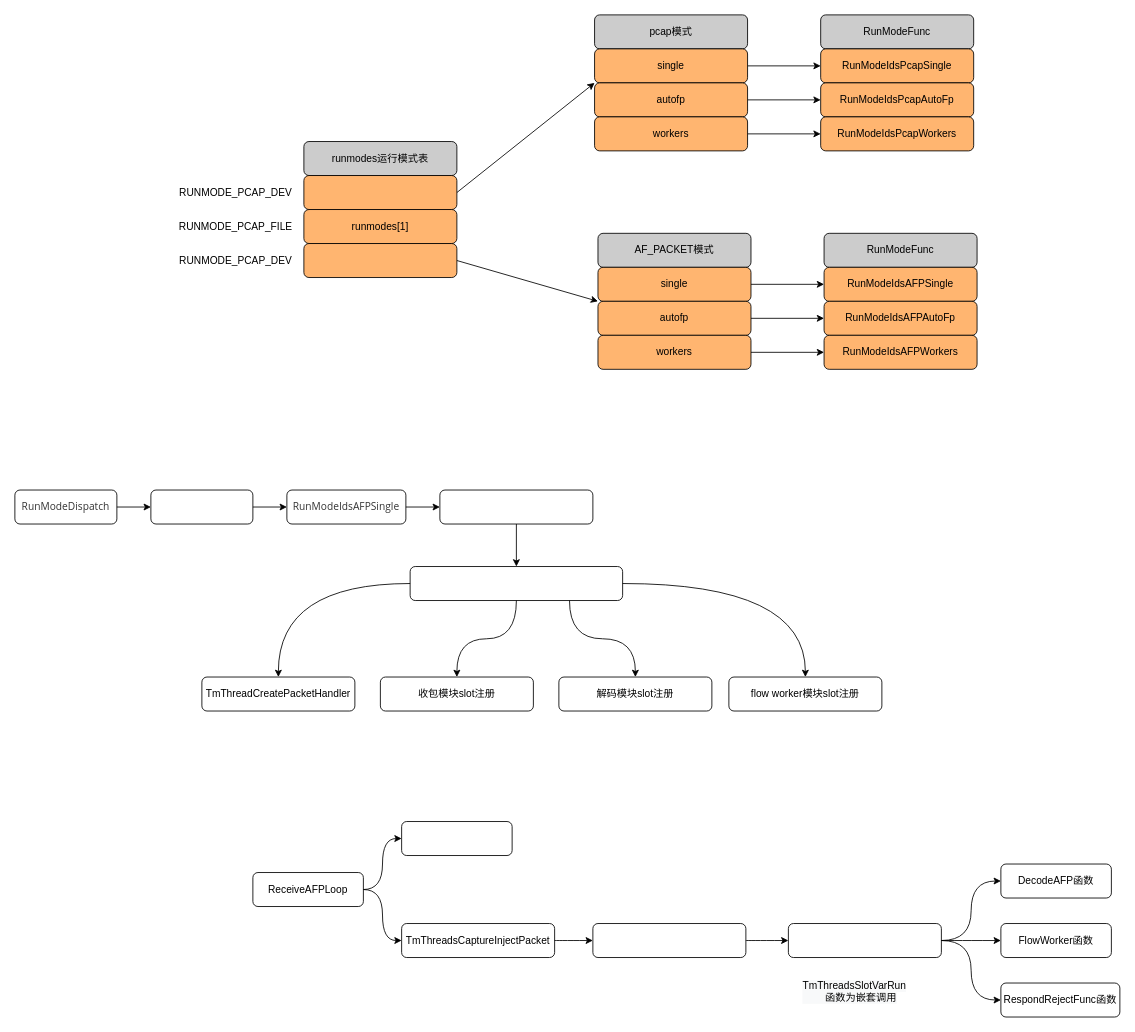
Image size: 1135x1032. Some labels were removed from this diagram. Each missing label, with the centre of its shape:
AFPReadFromRingV3: the point at 456,838
runmodes[0]: the point at 380,192
runmodes[2]: the point at 380,260
RunModeSetLiveCaptureSingle: the point at 516,506
RunModeSetLiveCaptureWorkersForDevice: the point at 516,583
TmThreadsSlotProcessPkt: the point at 669,940
TmThreadsSlotVarRun: the point at 864,940
回调函数 RunModeFunc: the point at 201,506
